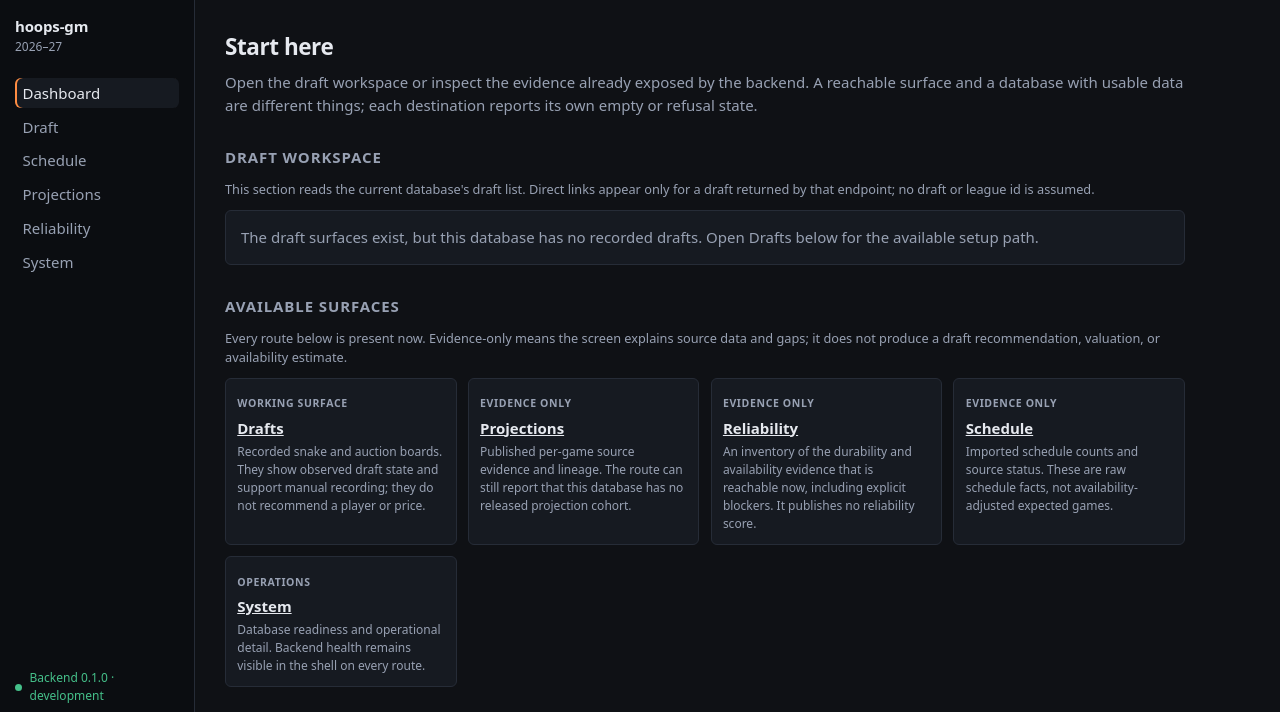
it: the dashboard shell › navigates to the projections page from the shell
Click the link "Projections" below "Dashboard": x=62, y=194 [22,184,101,204]
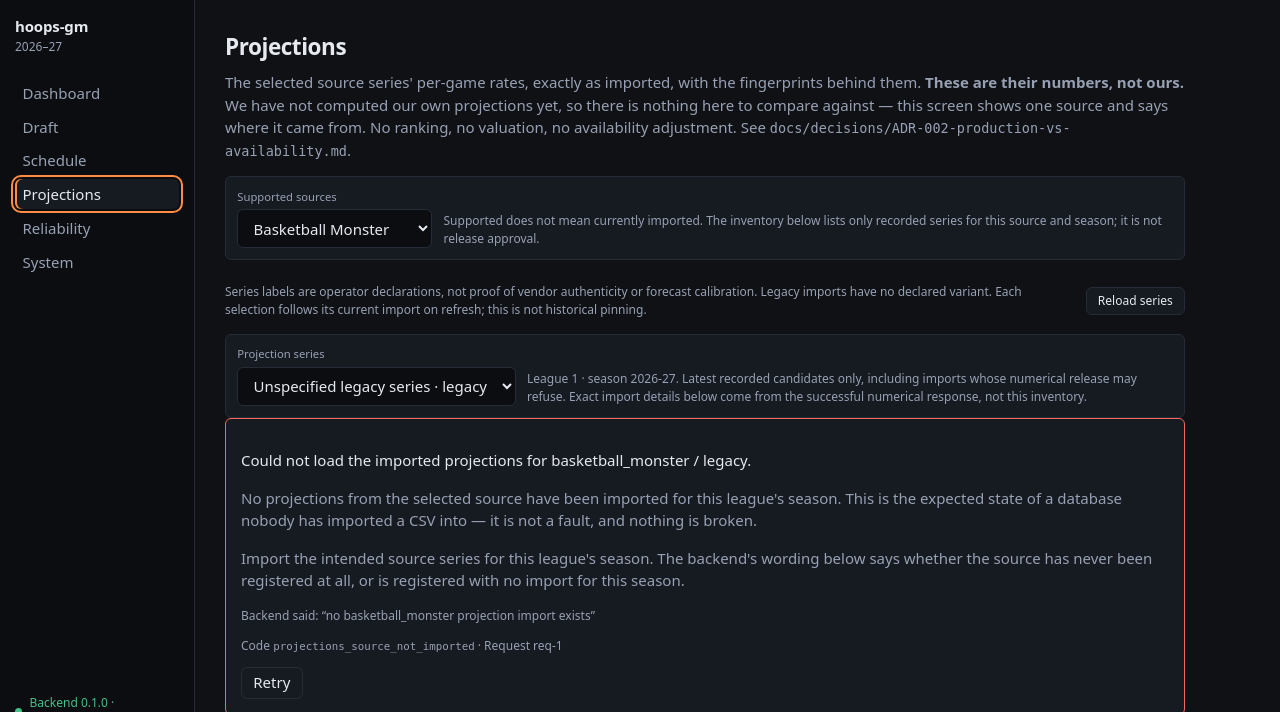
Check: the heading "Projections" is shown, box [225,31,346,62]
Check: the text with test id "async-error-summary" shows "No projections from the selected source have been imported", box [241,488,1122,530]
